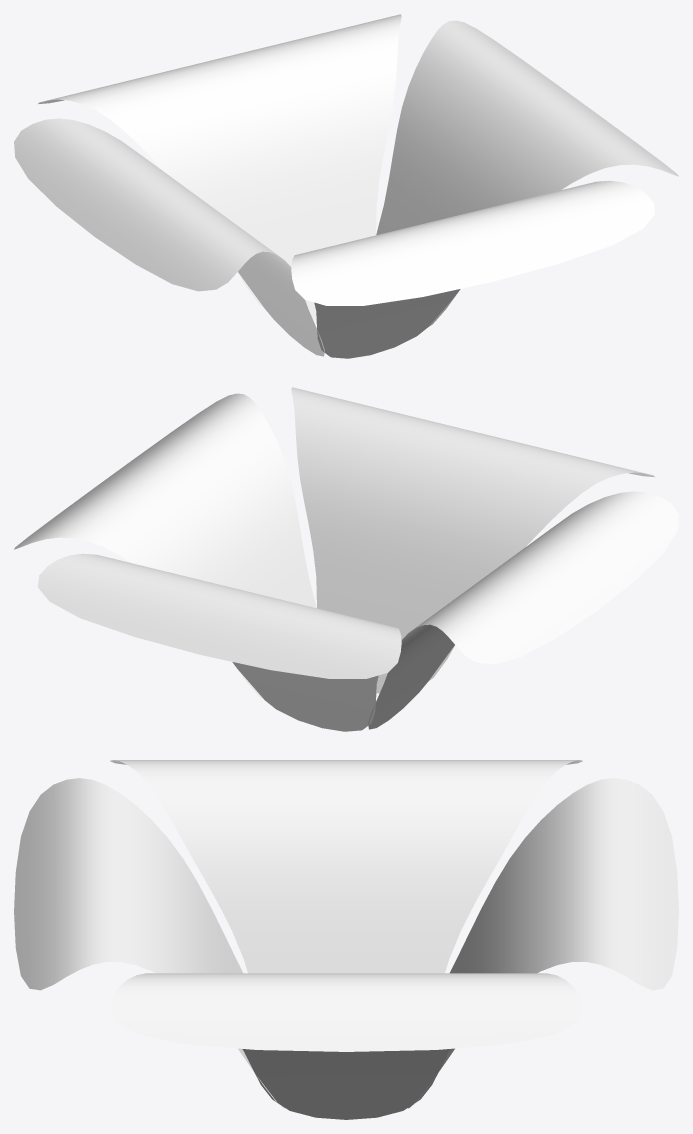
File: DestinationFBX.fbx
The picture shows the model from 3 angles, top to bottom: view 1: azimuth 30°, elevation 25°; view 2: azimuth 150°, elevation 25°; view 3: azimuth 270°, elevation 25°; orthographic projection. The views are drawn at different scales.
Parts seen in each view (by area): view 1: Plane; view 2: Plane; view 3: Plane.
Part boxes in pixels (x1,y1,x2,y2): Plane: [14, 14, 678, 358]; Plane: [14, 387, 678, 731]; Plane: [14, 760, 678, 1119].
Bounding box in the file's own units: 1.53 × 0.5697 × 1.53.
